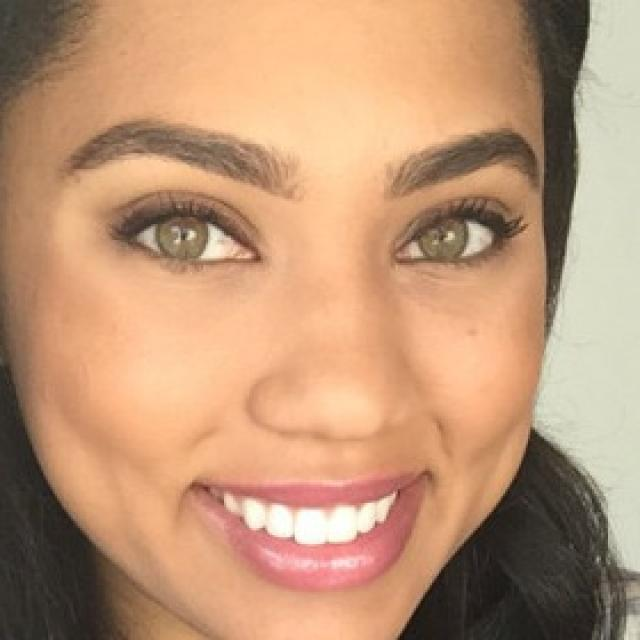Normal: (0, 0, 550, 638)
